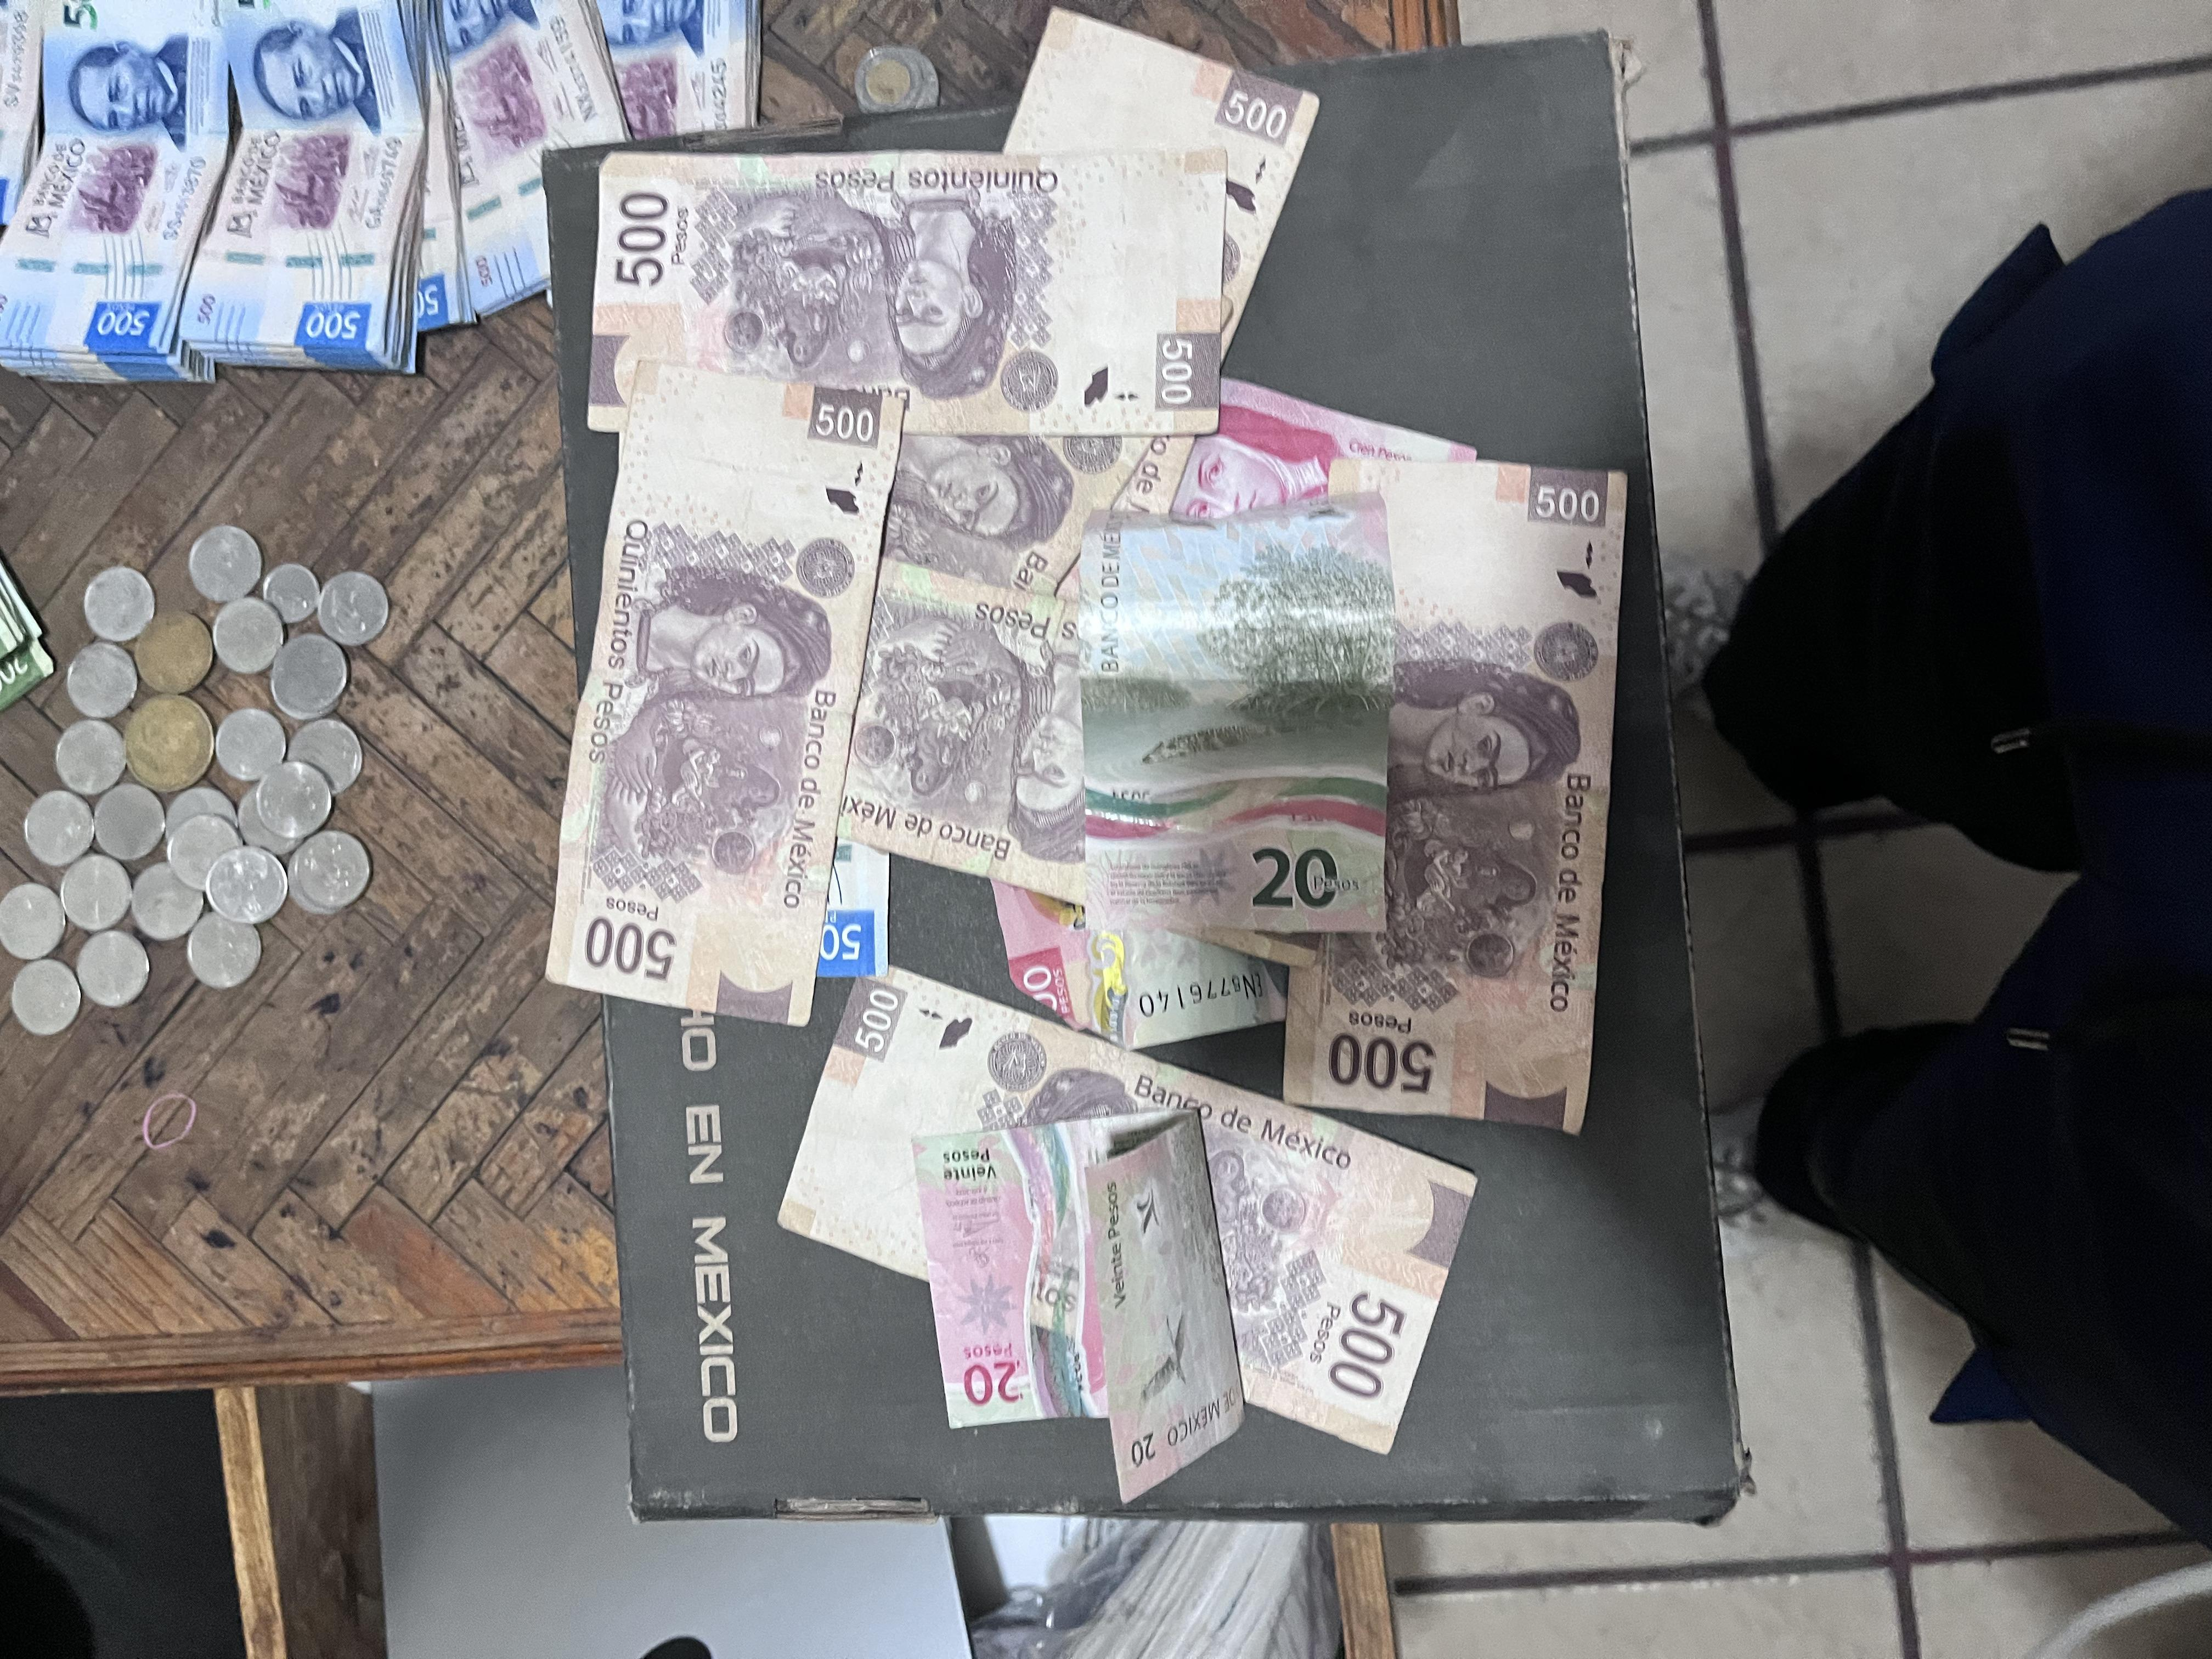1: (846, 58, 953, 122)
20: (906, 1110, 1301, 1516), (1064, 507, 1406, 943)
500: (761, 957, 1500, 1459), (770, 268, 1216, 951), (1294, 420, 1639, 1140), (554, 342, 881, 1063), (561, 143, 1244, 458), (991, 2, 1296, 453)
500 nuevo: (2, 0, 235, 397), (200, 0, 430, 375), (392, 0, 632, 314), (589, 0, 784, 138)
